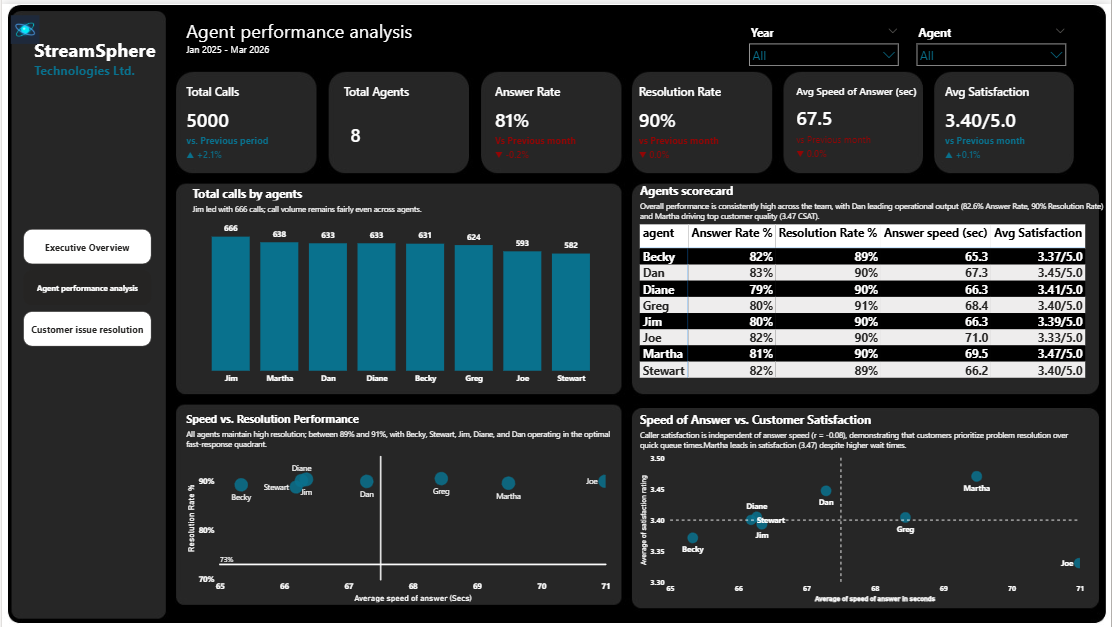

The dashboard page shown, as its layout file describes it:
{"tool":"powerbi","page":{"name":"Agent performance analysis","canvas":[1920,1080],"ordinal":1},"visuals":[{"type":"textbox","box":[10,0,280,280],"z":0},{"type":"image","box":[0,19.5,80.1,49.8],"z":1000},{"type":"cardVisual","title":"Total Calls","fields":{"Data":["_Measures.Total Calls"]},"box":[314.9,139.3,224.4,141.2],"z":2000},{"type":"cardVisual","title":"Answer Rate","fields":{"Data":["_Measures.Answer Rate %"]},"box":[848.3,138.5,225.1,140.7],"z":3000},{"type":"cardVisual","title":"Resolution Rate","fields":{"Data":["_Measures.Resolution Rate %"]},"box":[1097.2,138.5,225.1,140.7],"z":4000},{"type":"cardVisual","title":"Avg Speed of Answer (sec)","fields":{"Data":["_Measures.Avg Speed of Answer (sec)"]},"box":[1369.9,138.5,225.1,140.7],"z":5000},{"type":"cardVisual","title":"Avg Satisfaction","fields":{"Data":["_Measures.Avg Satisfaction"]},"box":[1627.4,138.5,225.1,140.7],"z":6000},{"type":"textbox","box":[313.8,19.5,930.6,93.1],"z":7000},{"type":"slicer","fields":{"Values":["Calendar.Year"]},"box":[1283.3,30.3,279.2,77.9],"z":8000},{"type":"cardVisual","title":"Total Agents","fields":{"Data":["_Measures.Total Agents"]},"box":[586.5,138.5,192.6,140.7],"z":9000},{"type":"clusteredColumnChart","title":"Total calls by agents","fields":{"Category":["Call Center Dataset.agent"],"Y":["CountNonNull(Call Center Dataset.call id)"]},"box":[324.6,313.8,733.6,352.8],"z":10000},{"type":"pivotTable","title":"Agents scorecard","fields":{"Rows":["Call Center Dataset.agent"],"Values":["_Measures.Answer Rate %","_Measures.Resolution Rate %","_Measures.Avg Speed of Answer (sec)","_Measures.Avg Satisfaction"]},"box":[1099.4,309.5,820.2,363.6],"z":11000},{"type":"scatterChart","title":"Speed vs. Resolution Performance","fields":{"Category":["Call Center Dataset.agent"],"X":["Avg(Call Center Dataset.speed of answer in seconds)"],"Y":["_Measures.Resolution Rate %"],"Size":["CountNonNull(Call Center Dataset.call id)"]},"box":[313.8,705.5,744.5,335.4],"z":12000},{"type":"scatterChart","title":"Speed of Answer vs. Customer Satisfaction","fields":{"X":["Avg(Call Center Dataset.speed of answer in seconds)"],"Y":["Avg(Call Center Dataset.satisfaction rating)"],"Category":["Call Center Dataset.agent"],"Size":["CountNonNull(Call Center Dataset.call id)"]},"box":[1099.4,705.5,779.1,335.4],"z":13000},{"type":"slicer","fields":{"Values":["Call Center Dataset.agent"]},"box":[1573.3,30.3,279.2,82.2],"z":14000},{"type":"pageNavigator","box":[36.8,389.5,222.9,203.4],"z":15000}]}

Visuals, with their boxes in screenshot pixels (x1, y1, x2, y2), scaled from the page's 1920x1080 canvas onto the 1113x627 screenshot:
textbox: l=6, t=0, r=168, b=163
image: l=0, t=11, r=46, b=40
"Total Calls" cardVisual: l=183, t=81, r=313, b=163
"Answer Rate" cardVisual: l=492, t=80, r=622, b=162
"Resolution Rate" cardVisual: l=636, t=80, r=767, b=162
"Avg Speed of Answer (sec)" cardVisual: l=794, t=80, r=925, b=162
"Avg Satisfaction" cardVisual: l=943, t=80, r=1074, b=162
textbox: l=182, t=11, r=721, b=65
slicer - Calendar.Year: l=744, t=18, r=906, b=63
"Total Agents" cardVisual: l=340, t=80, r=452, b=162
"Total calls by agents" clusteredColumnChart: l=188, t=182, r=613, b=387
"Agents scorecard" pivotTable: l=637, t=180, r=1112, b=391
"Speed vs. Resolution Performance" scatterChart: l=182, t=410, r=613, b=604
"Speed of Answer vs. Customer Satisfaction" scatterChart: l=637, t=410, r=1089, b=604
slicer - Call Center Dataset.agent: l=912, t=18, r=1074, b=65
pageNavigator: l=21, t=226, r=151, b=344
